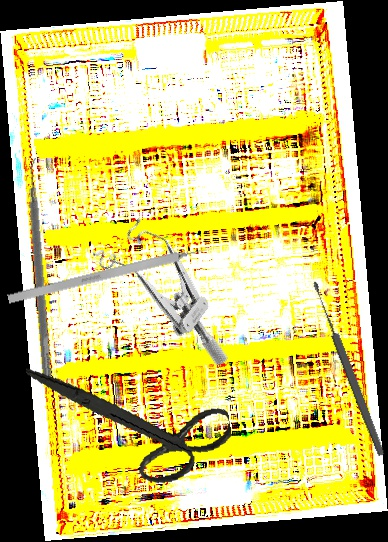Hook Surgical: (6, 242, 219, 304)
Iris Scissors: (25, 334, 238, 504)
Spatula Surgical: (23, 157, 63, 385)
Speculum: (80, 206, 266, 370)
Surgical Spoon: (309, 279, 388, 458)
